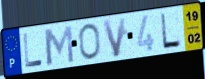4: (136, 14, 156, 54)
L: (159, 12, 183, 50), (22, 32, 45, 69)
M: (42, 24, 76, 67)
O: (77, 23, 102, 61)
V: (101, 16, 128, 60)
